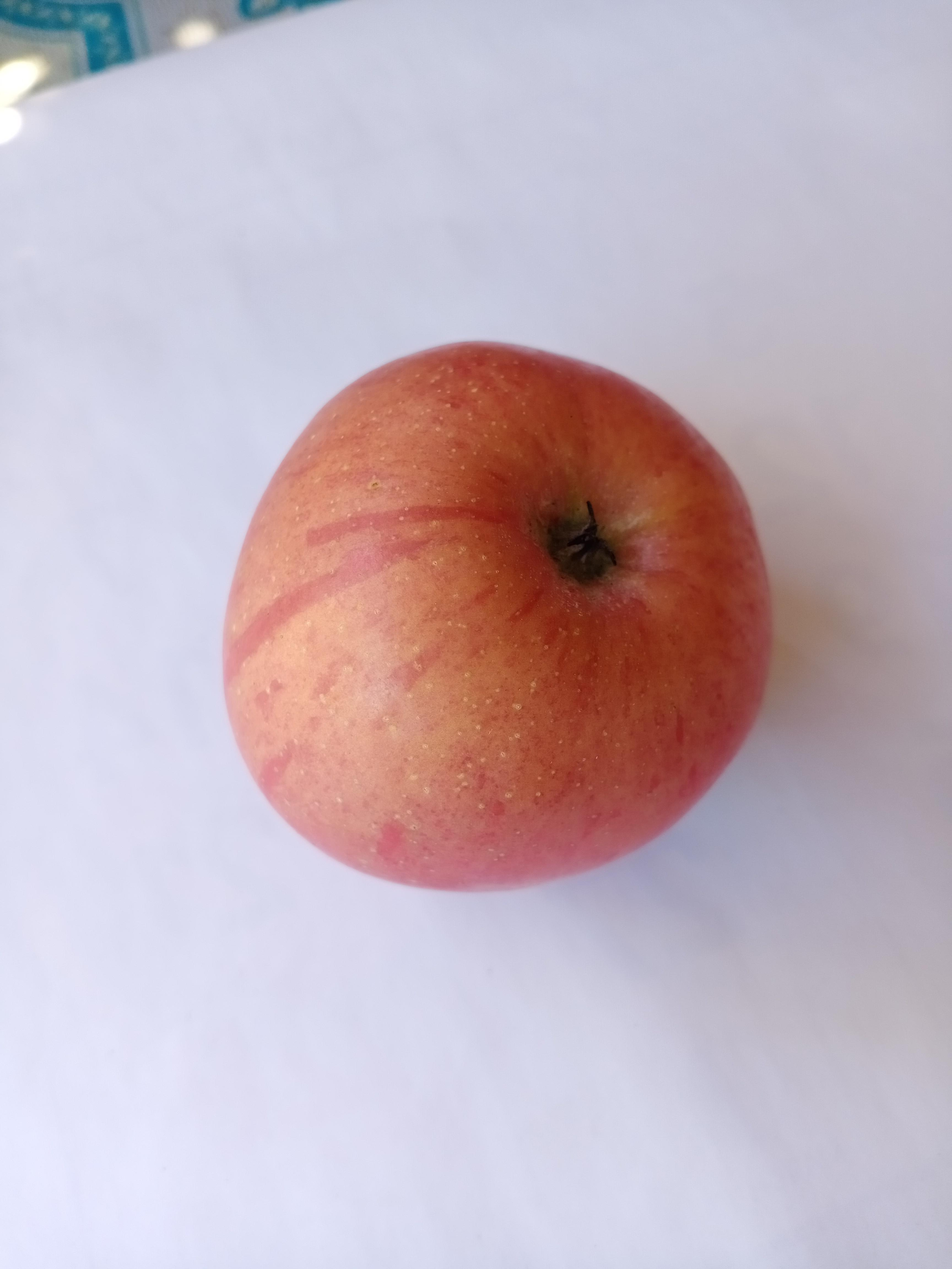Apple Ripe: (193, 322, 801, 920)
